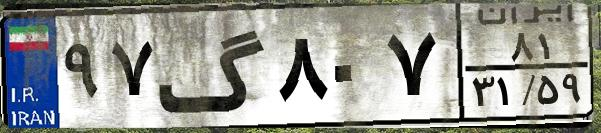0: (330, 28, 385, 110)
1: (537, 27, 568, 80), (495, 70, 520, 125)
3: (470, 70, 495, 125)
5: (535, 70, 560, 125)
7: (385, 28, 445, 110), (110, 28, 156, 98)
8: (270, 28, 330, 110), (508, 27, 537, 80)
9: (57, 26, 110, 100), (560, 70, 590, 125)
گ: (156, 12, 270, 120)
